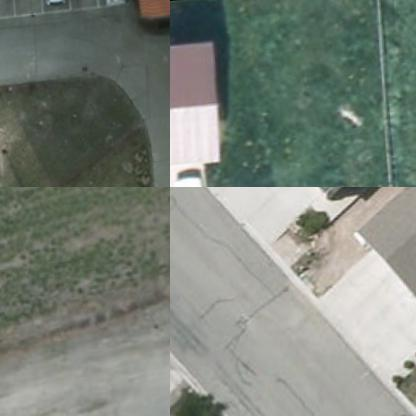car: (99, 0, 129, 9), (44, 0, 71, 8)
